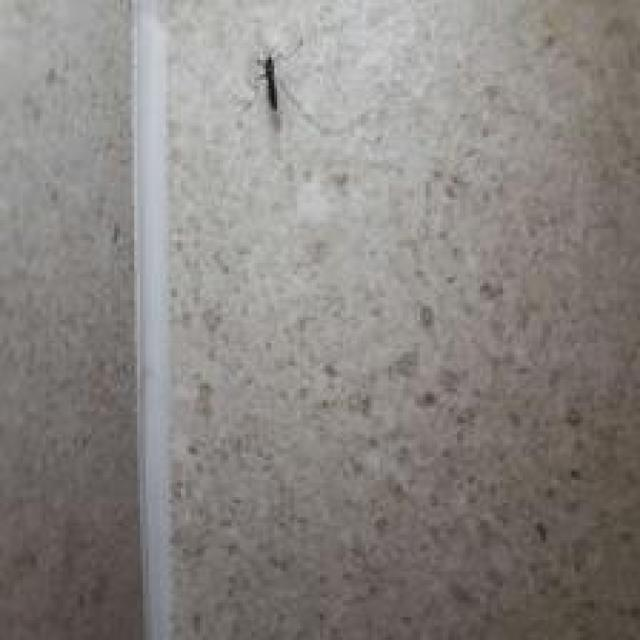Aedes albopictus: (262, 53, 278, 113)
